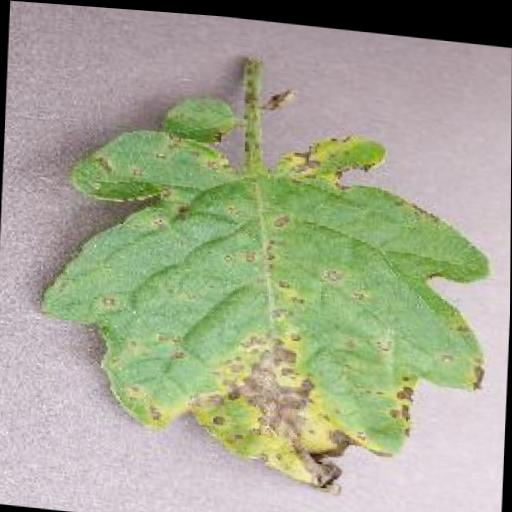Septoria: (29, 101, 492, 501)
